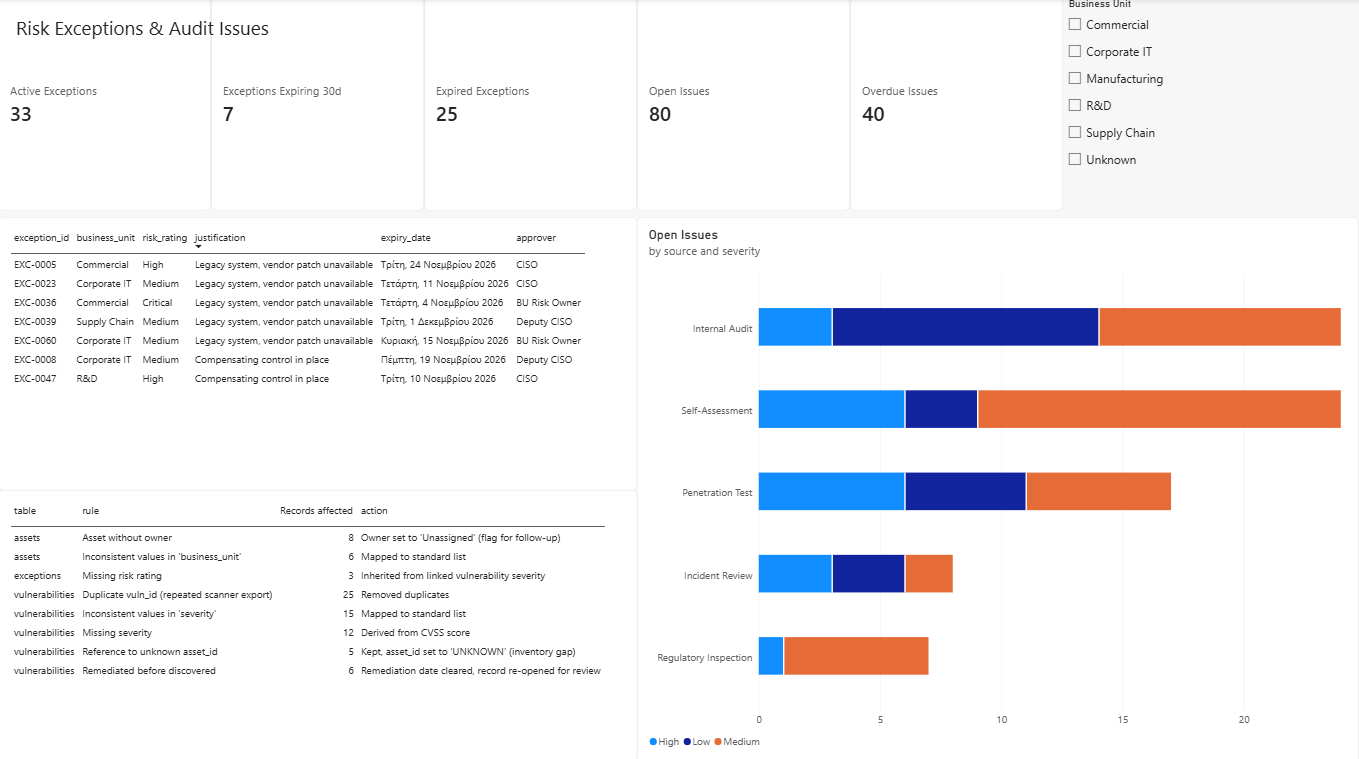

This screenshot's page, from the dashboard's own definition file:
{"tool":"powerbi","page":{"name":"Exceptions & Issues","canvas":[1920,1080],"ordinal":3},"visuals":[{"type":"slicer","fields":{"Values":["business_units.business_unit"]},"box":[1502.4,0,416.7,300.5],"z":0},{"type":"cardVisual","fields":{"Data":["_Measures.Active Exceptions"]},"box":[0,0,300,300],"z":1000},{"type":"cardVisual","fields":{"Data":["_Measures.Exceptions Expiring 30d"]},"box":[300.5,0,300,300],"z":2000},{"type":"cardVisual","fields":{"Data":["_Measures.Expired Exceptions"]},"box":[600.9,0,300,300],"z":3000},{"type":"cardVisual","fields":{"Data":["_Measures.Open Issues"]},"box":[901.4,0,300,300],"z":4000},{"type":"cardVisual","fields":{"Data":["_Measures.Overdue Issues"]},"box":[1201.9,0,300,300],"z":5000},{"type":"tableEx","fields":{"Values":["exceptions.exception_id","exceptions.business_unit","exceptions.risk_rating","exceptions.justification","exceptions.expiry_date","exceptions.approver"]},"box":[0,309,901.4,385.5],"z":6000},{"type":"barChart","fields":{"Category":["issues.source"],"Series":["issues.severity"],"Y":["_Measures.Open Issues"]},"box":[901.4,309,1017.6,771],"z":6001},{"type":"tableEx","fields":{"Values":["data_quality_log.table","data_quality_log.rule","Sum(data_quality_log.records_affected)","data_quality_log.action"]},"box":[0,694.5,901.4,385.5],"z":6002},{"type":"textbox","box":[25.5,22.7,674.7,51],"z":6003}]}

Visuals, with their boxes in screenshot pixels (x1, y1, x2, y2), scaled from the page's 1920x1080 canvas onto the 1359x759 screenshot:
slicer - business_units.business_unit: (1063,0,1358,211)
cardVisual - _Measures.Active Exceptions: (0,0,212,211)
cardVisual - _Measures.Exceptions Expiring 30d: (213,0,425,211)
cardVisual - _Measures.Expired Exceptions: (425,0,638,211)
cardVisual - _Measures.Open Issues: (638,0,850,211)
cardVisual - _Measures.Overdue Issues: (851,0,1063,211)
tableEx - exceptions.exception_id x exceptions.business_unit: (0,217,638,488)
barChart - issues.source x issues.severity: (638,217,1358,758)
tableEx - data_quality_log.table x data_quality_log.rule: (0,488,638,758)
textbox: (18,16,496,52)
